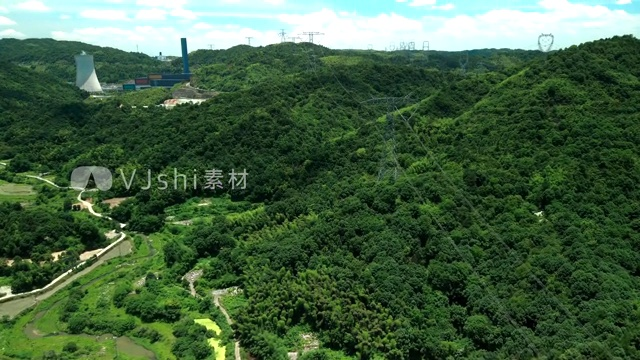tower_body: (359, 90, 425, 190)
tower_foot: (377, 161, 401, 187)
tower_head: (361, 94, 422, 114)
